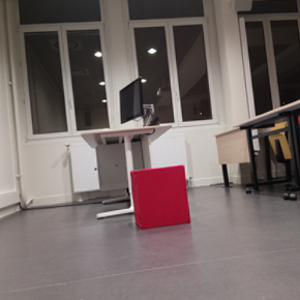medium: (128, 165, 193, 229)
